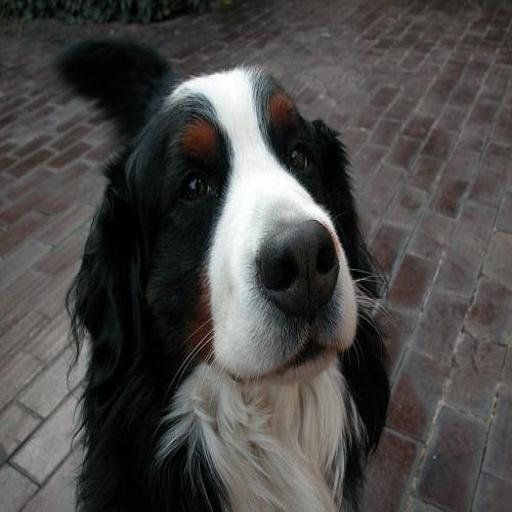dog_face: (132, 76, 380, 394)
